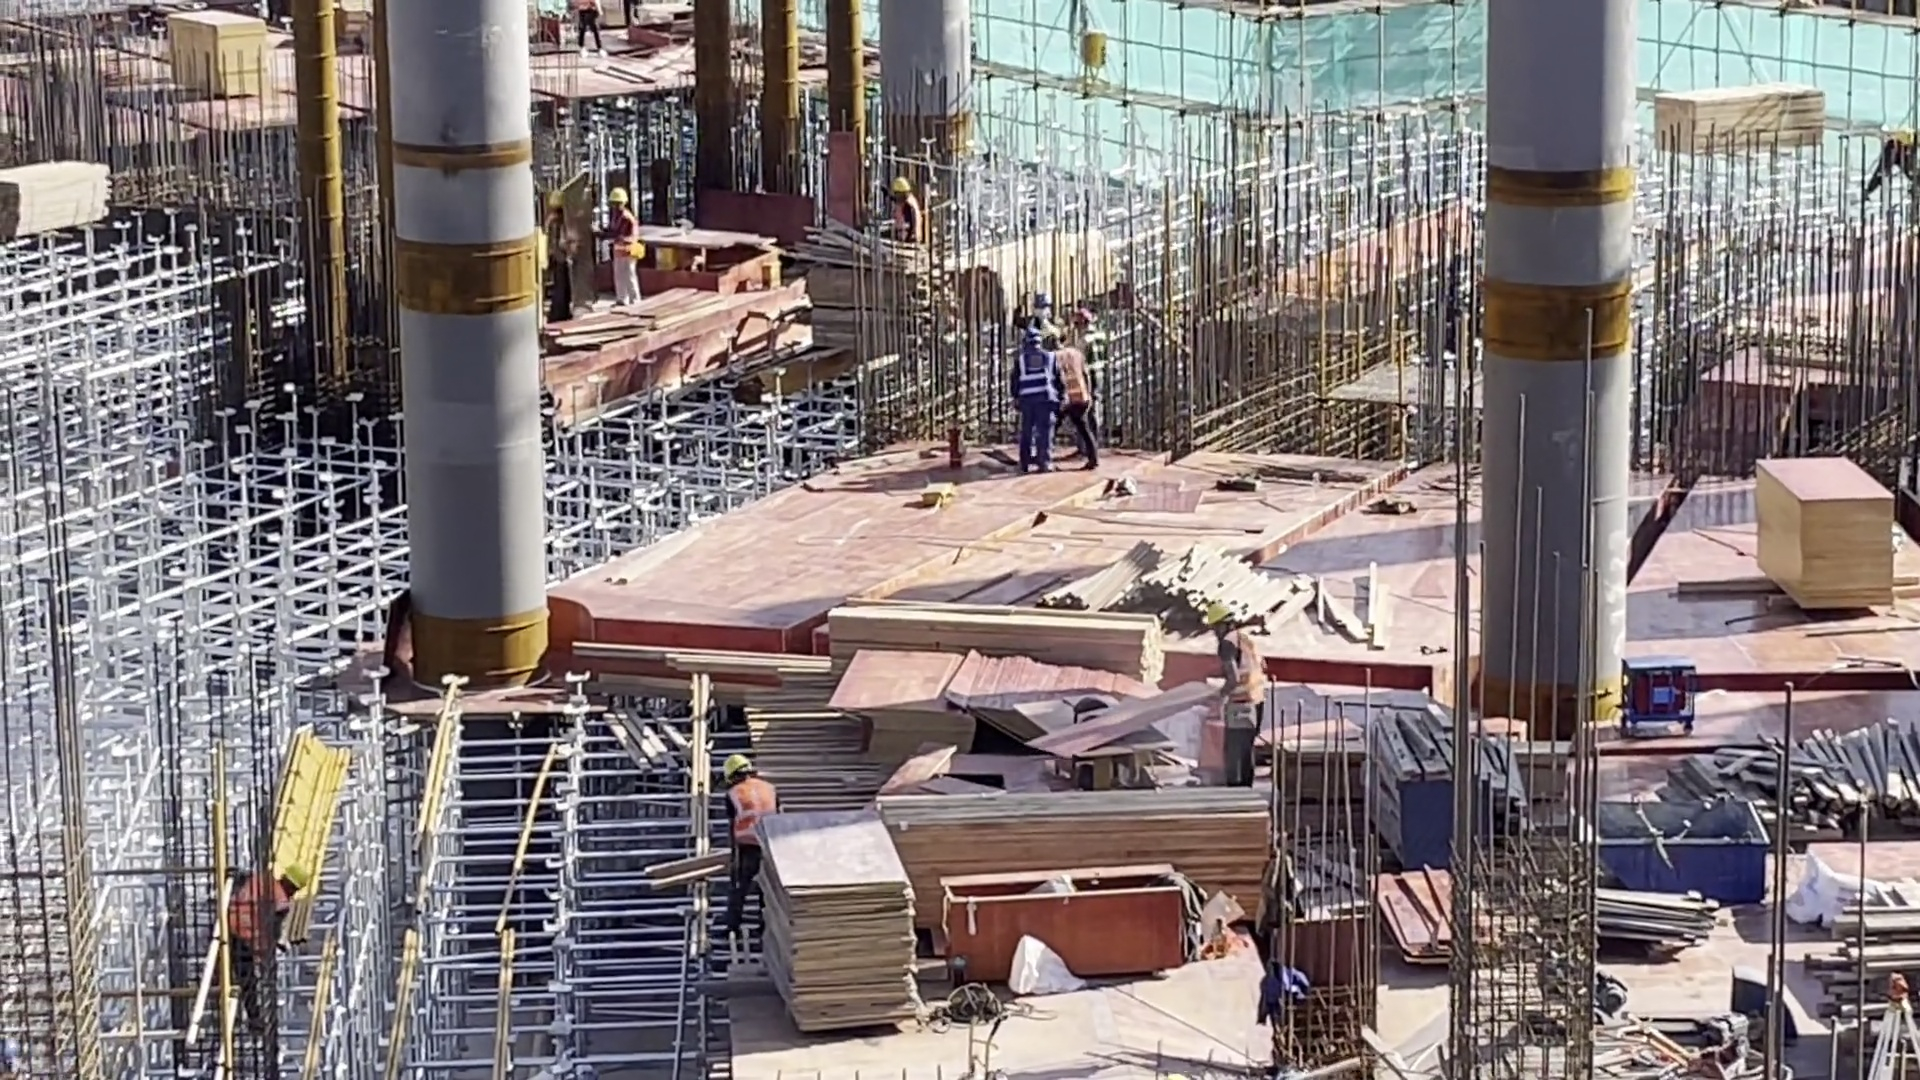board: (761, 809, 924, 1036), (1753, 453, 1895, 616), (822, 646, 957, 780), (167, 9, 268, 97), (1373, 867, 1455, 970)
cutter: (1014, 688, 1179, 783), (632, 232, 779, 304)
ebox: (1077, 29, 1106, 91)
helmet: (1210, 601, 1240, 628), (720, 753, 749, 776), (283, 866, 309, 889), (1021, 328, 1043, 347), (606, 188, 629, 204), (890, 177, 910, 193)
hopper: (1594, 800, 1771, 909)
person: (222, 865, 307, 1012), (719, 752, 789, 921), (1207, 600, 1268, 786), (1007, 321, 1057, 475), (1048, 335, 1092, 469), (597, 184, 641, 306), (1861, 116, 1920, 204), (882, 177, 926, 246), (573, 1, 603, 56)
vest: (1215, 633, 1266, 719), (720, 780, 779, 842), (1014, 351, 1054, 409), (1055, 349, 1089, 412), (605, 209, 641, 262), (894, 197, 922, 239)
wood: (1025, 532, 1377, 639), (1665, 714, 1920, 850), (886, 792, 1260, 873), (831, 602, 1167, 677), (1803, 877, 1920, 1058), (793, 235, 941, 372), (945, 226, 1111, 310), (1652, 81, 1828, 155), (1, 149, 112, 240)
